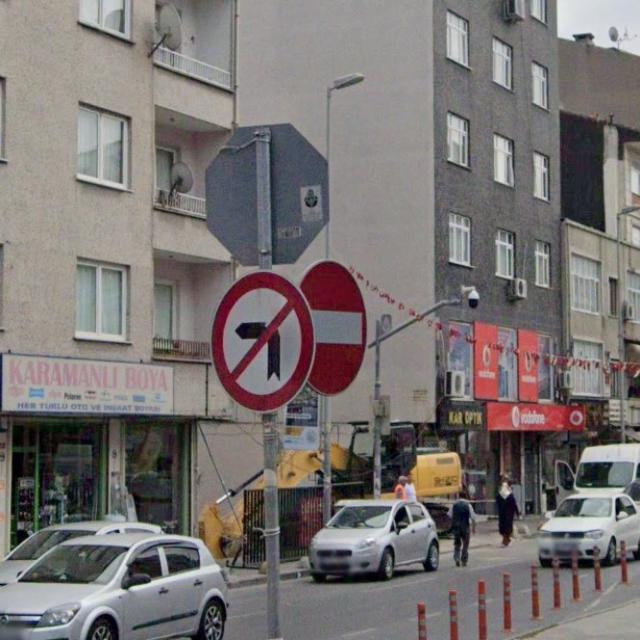girisyok: (295, 260, 367, 398)
soladonulmez: (211, 273, 315, 412)
